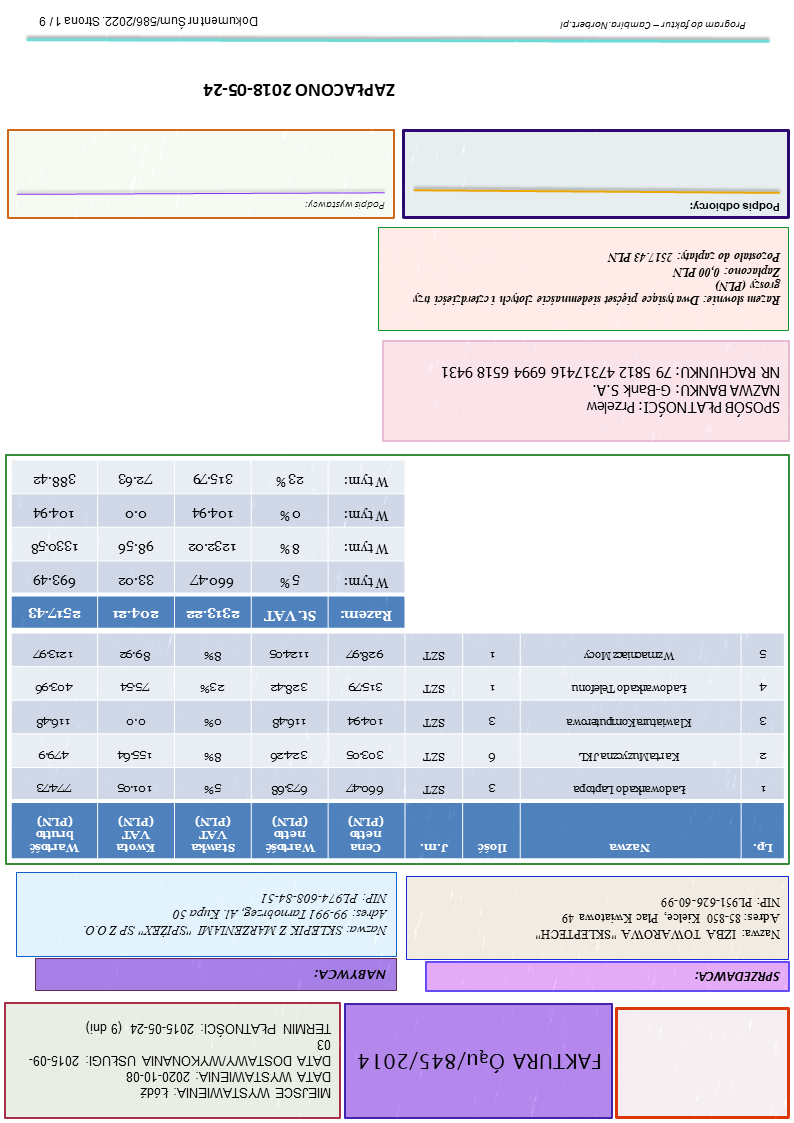Table: (13, 634, 786, 862), (10, 458, 406, 631)
TextBox: (26, 1018, 335, 1104), (409, 249, 784, 311), (437, 360, 783, 421), (81, 892, 390, 941), (533, 892, 784, 946), (356, 1046, 605, 1077), (200, 79, 397, 102), (39, 14, 262, 32), (559, 18, 749, 34), (686, 198, 783, 216), (305, 196, 388, 217), (693, 967, 782, 986), (312, 965, 391, 985)
